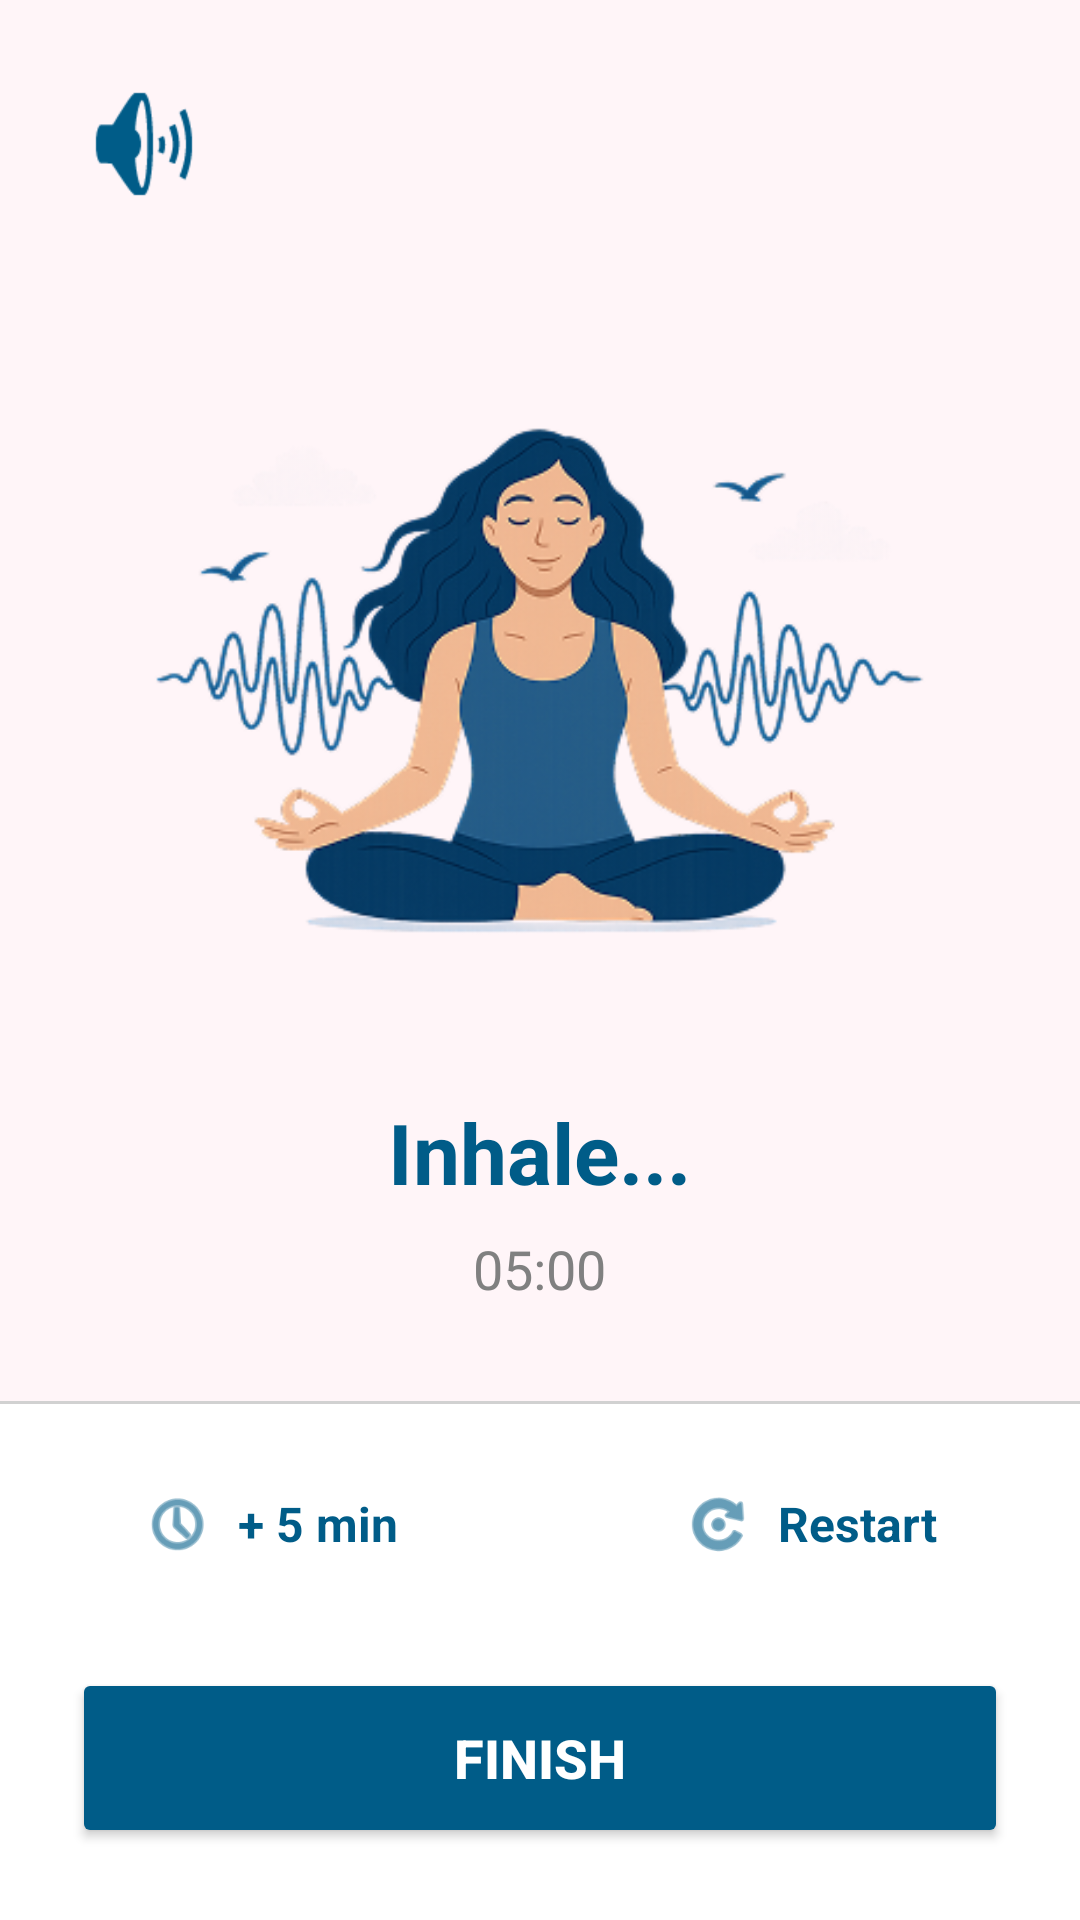

Icons on this 1080w x 1920h Android screen, each with its box as (x1, y1, x2, y2):
Tombol Musik: (95, 92, 193, 196)
Ulangi: (692, 1497, 744, 1551)
